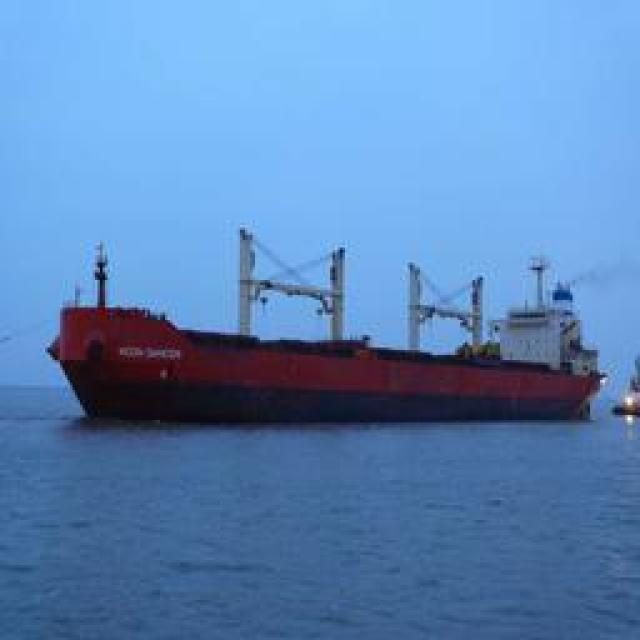CIV_Ship: (45, 232, 610, 426)
